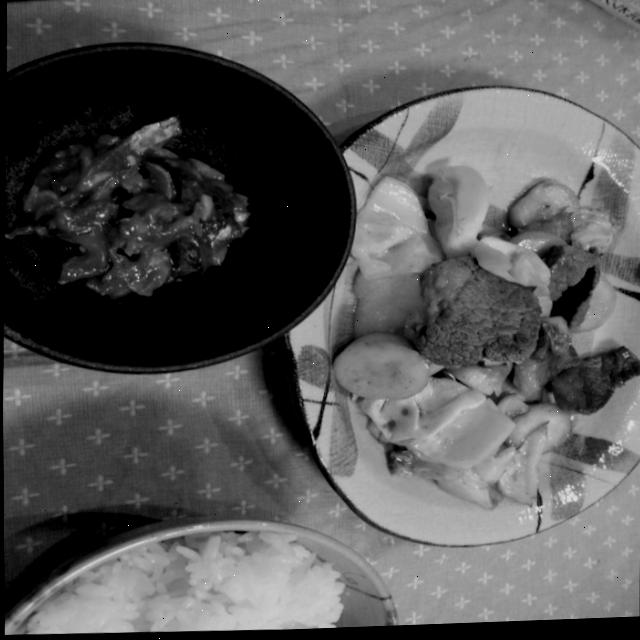蔬菜料理: (357, 164, 628, 479)
